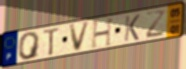H: (90, 16, 116, 50)
K: (123, 13, 141, 43)
Q: (18, 30, 42, 61)
T: (43, 26, 61, 57)
V: (68, 19, 92, 53)
Z: (145, 9, 167, 40)
